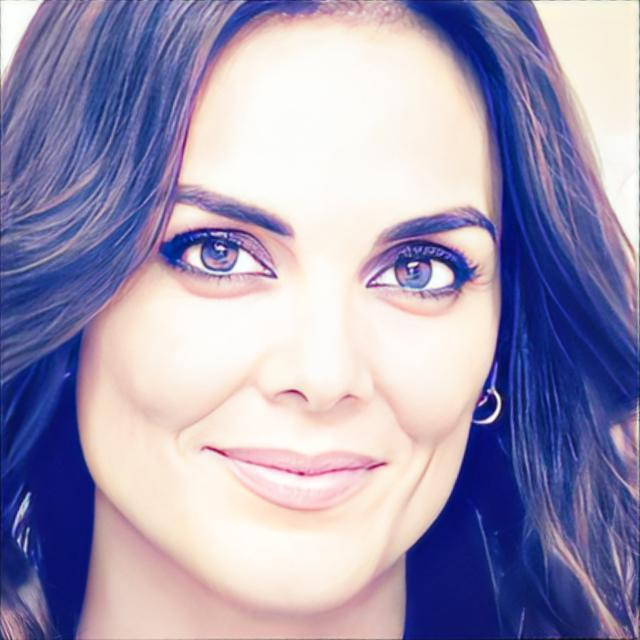content: (78, 0, 504, 618)
